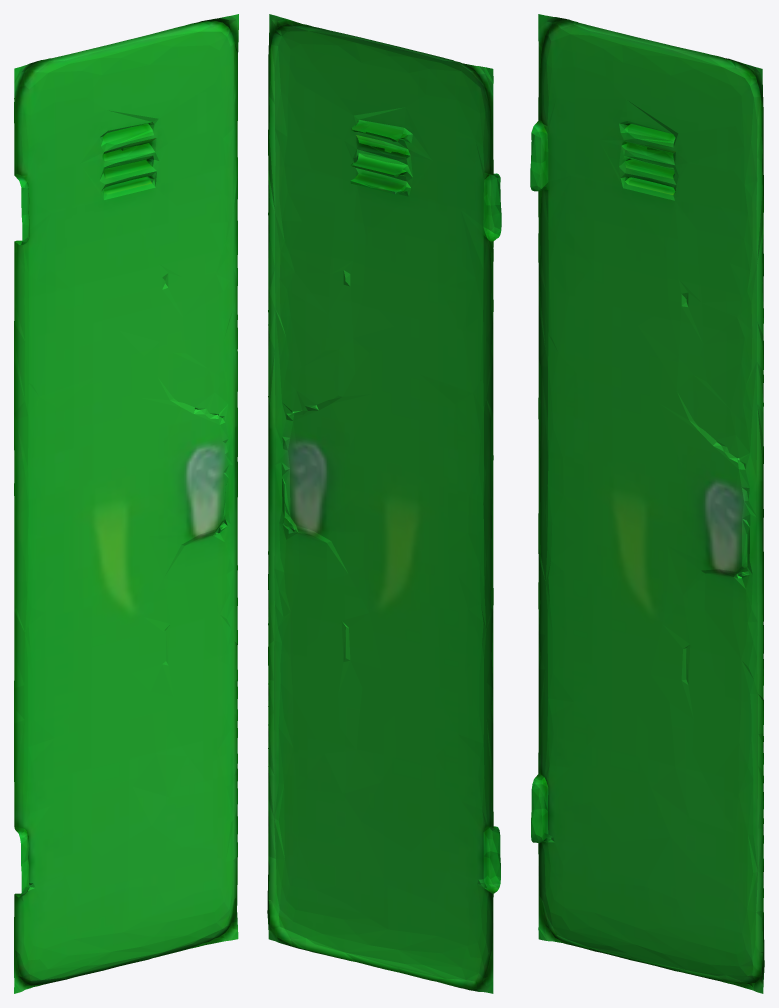
Rendered from door_right.glb.
The picture shows the model from 3 angles, left to right: view 1: azimuth 30°, elevation 25°; view 2: azimuth 150°, elevation 25°; view 3: azimuth 330°, elevation 25°; orthographic projection.
Visible parts, largest first — view 1: source_surface_0; view 2: source_surface_0; view 3: source_surface_0.
Boxes of the visible parts, x1,y1,x2,y2 form: source_surface_0: (14, 14, 238, 993); source_surface_0: (267, 14, 501, 993); source_surface_0: (530, 14, 764, 993).
Size of the model in its own units: 0.0645 by 0.254 by 0.00726.
Materials: 1 (1 with a texture image).
